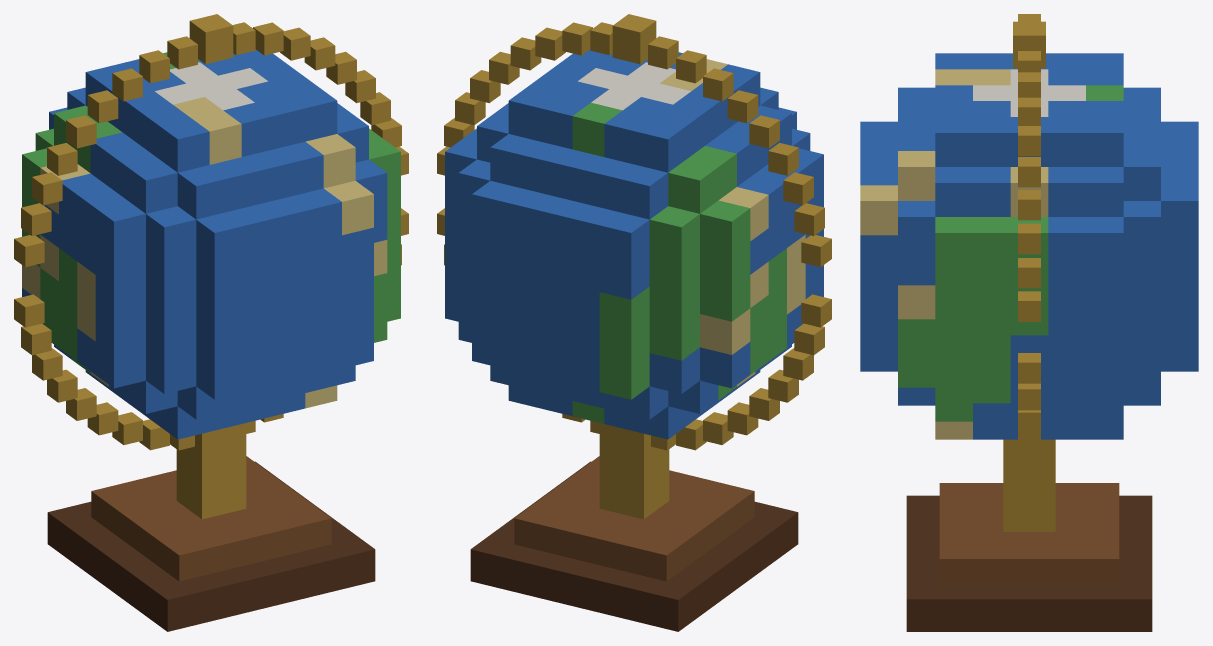
Rendered from tv-globe.glb.
3 renders of one model, left to right at view 1: azimuth 30°, elevation 25°; view 2: azimuth 150°, elevation 25°; view 3: azimuth 270°, elevation 25°, orthographic. The views are drawn at different scales.
Parts seen in each view (by area): view 1: box-prop; view 2: box-prop; view 3: box-prop.
Part boxes in pixels (left/top/right/bottom): box-prop: left=14, top=14, right=408, bottom=631; box-prop: left=437, top=14, right=831, bottom=631; box-prop: left=860, top=14, right=1198, bottom=631.
Bounding box in the file's own units: 2.77 × 3.72 × 2.07.
